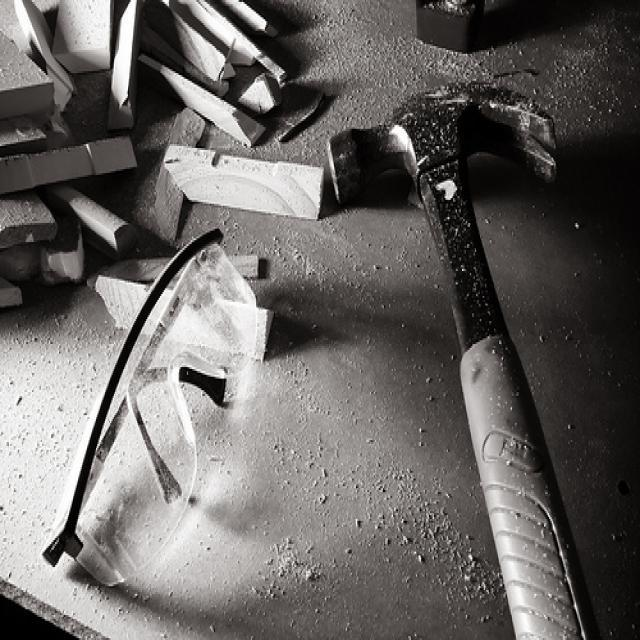hammer: (319, 71, 608, 640)
